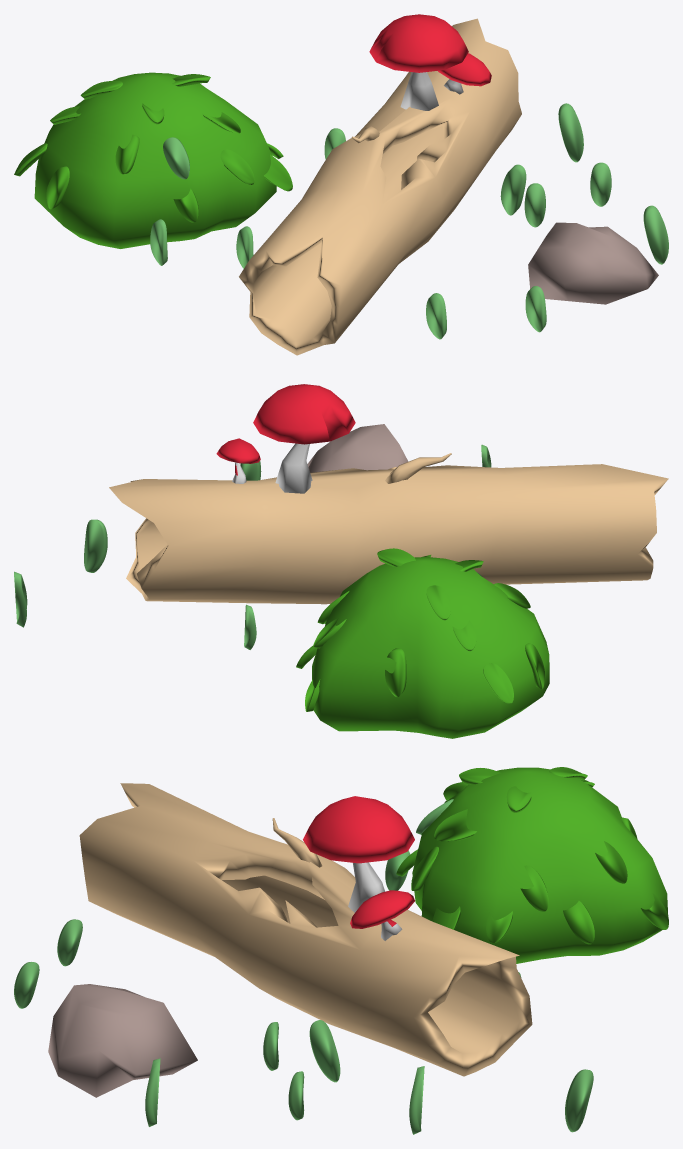
File: Hermeliojn.fbx
3 renders of one model, top to bottom at view 1: azimuth 30°, elevation 25°; view 2: azimuth 150°, elevation 25°; view 3: azimuth 270°, elevation 25°, orthographic. The views are drawn at different scales.
Parts seen in each view (by area): view 1: hermeliojn; view 2: hermeliojn; view 3: hermeliojn.
Boxes of the visible parts, x1,y1,x2,y2 form: hermeliojn: (14, 14, 668, 355); hermeliojn: (14, 384, 668, 738); hermeliojn: (14, 767, 668, 1134).
Size of the model in its own units: 339 by 143 by 347.
